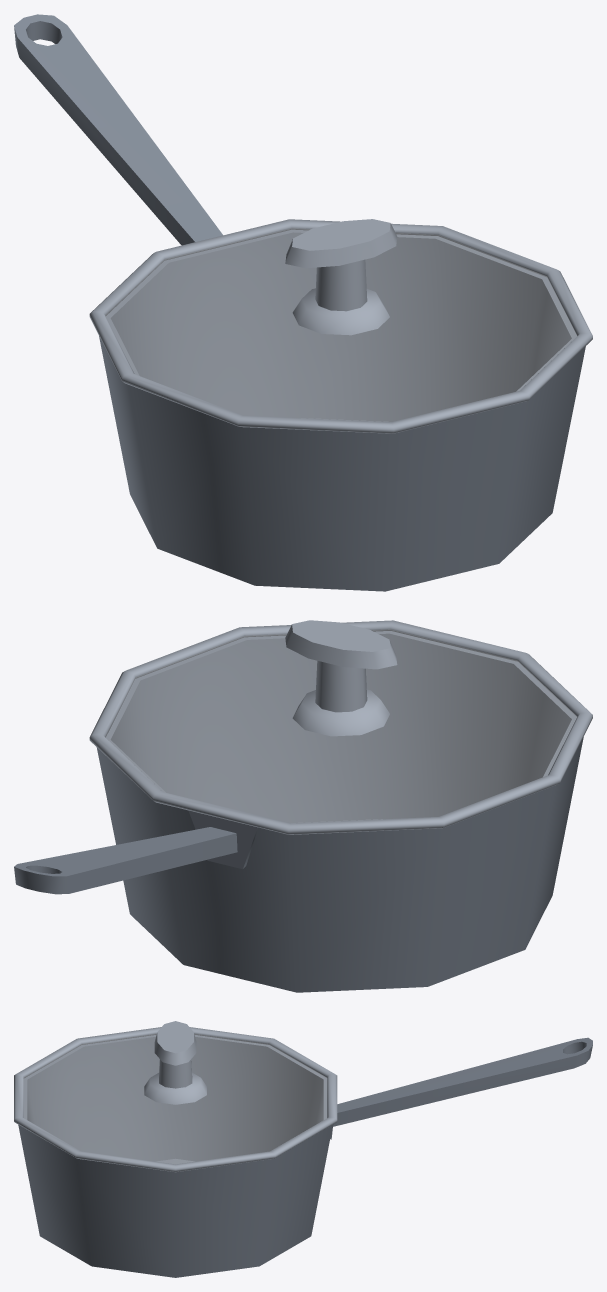
Rendered from cooking_assets_sauce_pan.glb.
The picture shows the model from 3 angles, top to bottom: view 1: azimuth 30°, elevation 25°; view 2: azimuth 150°, elevation 25°; view 3: azimuth 270°, elevation 25°; orthographic projection. The views are drawn at different scales.
Visible parts, largest first — view 1: pan_sauce_pan_large.001_Cylinder.073, pan_sauce_pan_large_lid_Cylinder.074; view 2: pan_sauce_pan_large.001_Cylinder.073, pan_sauce_pan_large_lid_Cylinder.074; view 3: pan_sauce_pan_large.001_Cylinder.073, pan_sauce_pan_large_lid_Cylinder.074.
Part boxes in pixels (<box>): pan_sauce_pan_large.001_Cylinder.073: <box>14,14,585,591</box>; pan_sauce_pan_large_lid_Cylinder.074: <box>89,219,592,433</box>; pan_sauce_pan_large.001_Cylinder.073: <box>14,631,583,992</box>; pan_sauce_pan_large_lid_Cylinder.074: <box>89,620,592,834</box>; pan_sauce_pan_large.001_Cylinder.073: <box>18,1034,592,1277</box>; pan_sauce_pan_large_lid_Cylinder.074: <box>14,1021,337,1172</box>.
Size of the model in its own units: 4.45 by 2.61 by 7.58.
2 materials, 2 textured.
